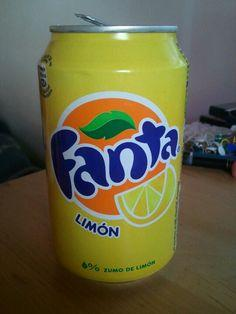metal: (38, 14, 189, 282)
